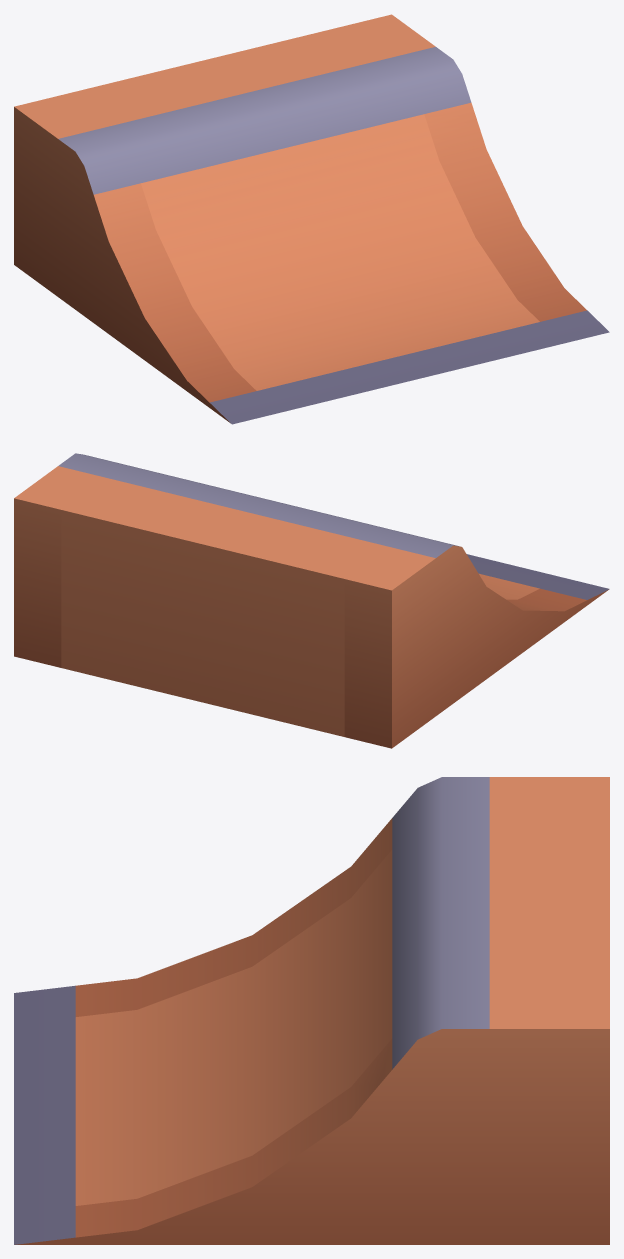
The model's file is mini-skate--half-pipe-low.glb.
3 renders of one model, top to bottom at view 1: azimuth 30°, elevation 25°; view 2: azimuth 150°, elevation 25°; view 3: azimuth 270°, elevation 25°, orthographic. The views are drawn at different scales.
Parts seen in each view (by area): view 1: half-pipe-low; view 2: half-pipe-low; view 3: half-pipe-low.
Boxes of the visible parts, <box> form: half-pipe-low: <box>14,14,609,424</box>; half-pipe-low: <box>14,453,609,748</box>; half-pipe-low: <box>14,777,609,1244</box>.
Size of the model in its own units: 1 by 0.4 by 1.
1 material, 1 textured.
